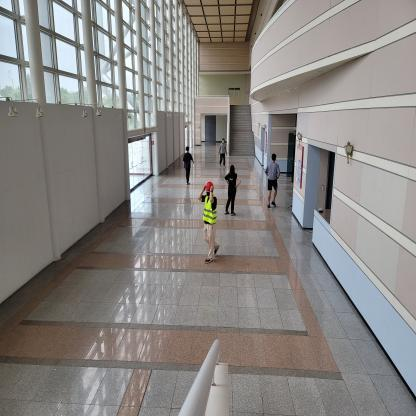Standing: (198, 182, 220, 264), (265, 154, 281, 208), (224, 165, 240, 216), (184, 146, 194, 184), (218, 139, 226, 168)
safety_equipment: (203, 194, 217, 224), (205, 181, 214, 191)
